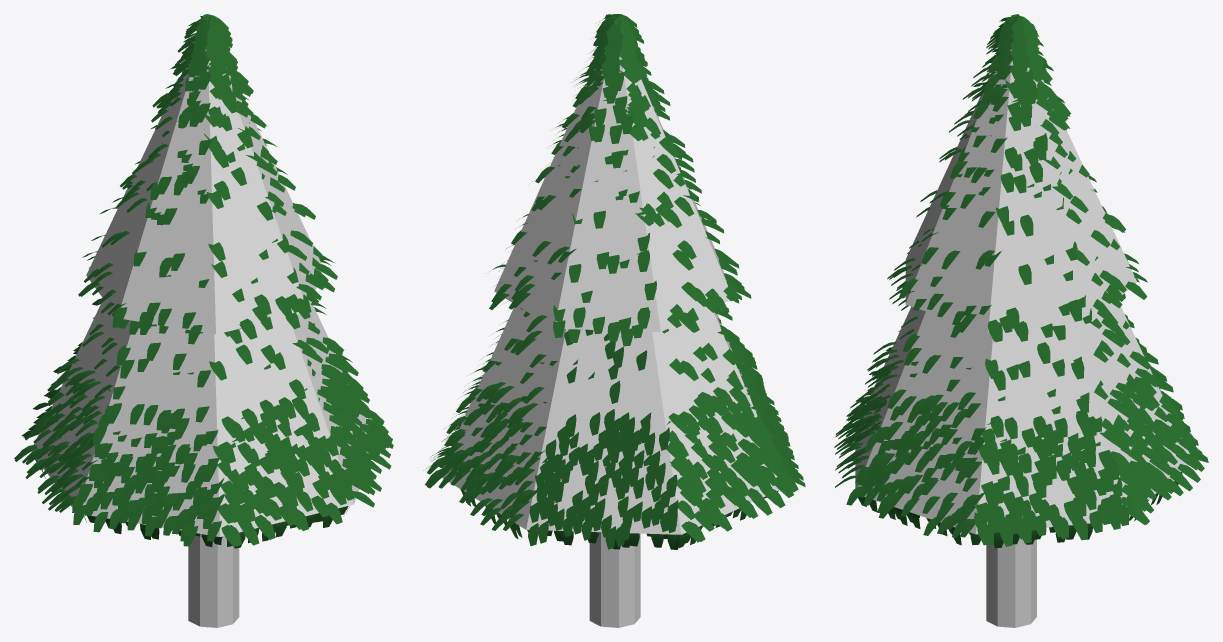
File: Pinheiro_final.fbx
3 views of the same model, side by side, from view 1: azimuth 30°, elevation 25°; view 2: azimuth 150°, elevation 25°; view 3: azimuth 270°, elevation 25° (orthographic).
Parts seen in each view (by area): view 1: Cylinder.001, Cylinder; view 2: Cylinder.001, Cylinder; view 3: Cylinder.001, Cylinder.
Part boxes in pixels (box(x1,y1,x2,y2)): Cylinder.001: box(31, 49, 368, 536); Cylinder: box(188, 534, 239, 627); Cylinder.001: box(441, 53, 779, 534); Cylinder: box(589, 532, 640, 627); Cylinder.001: box(855, 49, 1189, 534); Cylinder: box(986, 538, 1036, 627).
Size of the model in its own units: 312 by 543 by 307.
